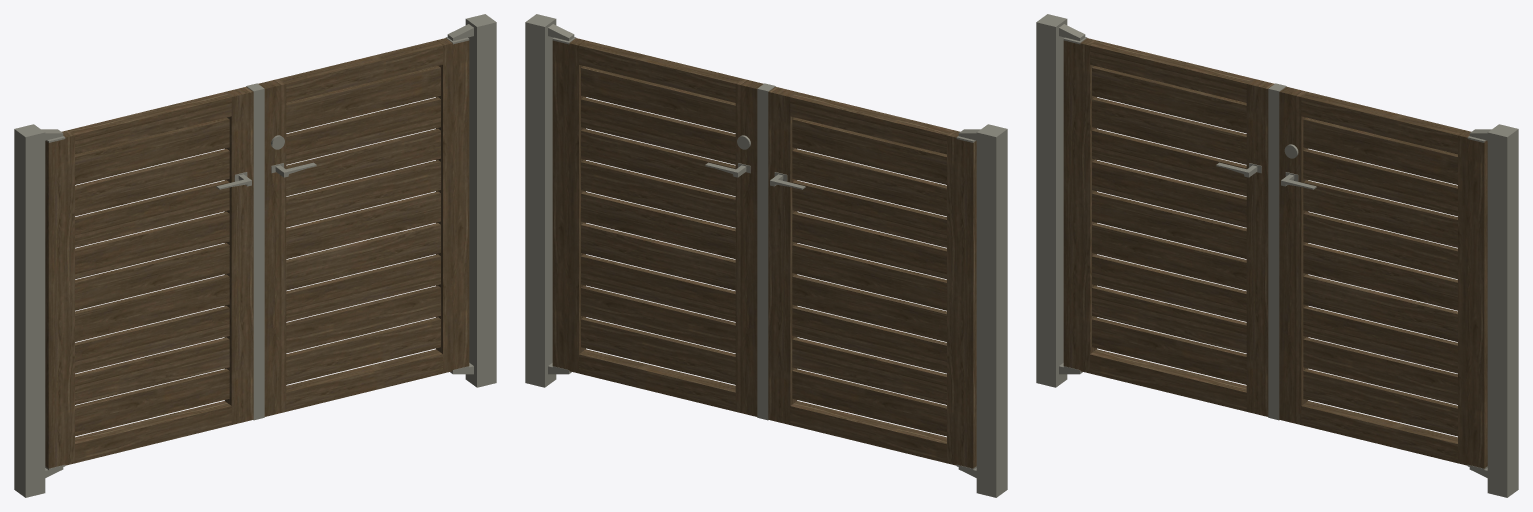
File: awmonpi2-102yoko_h1200-w800-800_brownebony.fbx
3 views of the same model, side by side, from view 1: azimuth 30°, elevation 25°; view 2: azimuth 150°, elevation 25°; view 3: azimuth 330°, elevation 25° (orthographic).
Visible parts, largest first — view 1: awmonpi2-102yoko_h1200-w800-800_chacoalgray.001; view 2: awmonpi2-102yoko_h1200-w800-800_chacoalgray.001; view 3: awmonpi2-102yoko_h1200-w800-800_chacoalgray.001.
Part boxes in pixels (x1,y1,x2,y2): awmonpi2-102yoko_h1200-w800-800_chacoalgray.001: [14, 14, 496, 497]; awmonpi2-102yoko_h1200-w800-800_chacoalgray.001: [525, 14, 1007, 497]; awmonpi2-102yoko_h1200-w800-800_chacoalgray.001: [1036, 14, 1518, 497].
Bounding box in the file's own units: 180 × 132 × 16.7.
2 materials, 2 textured.
